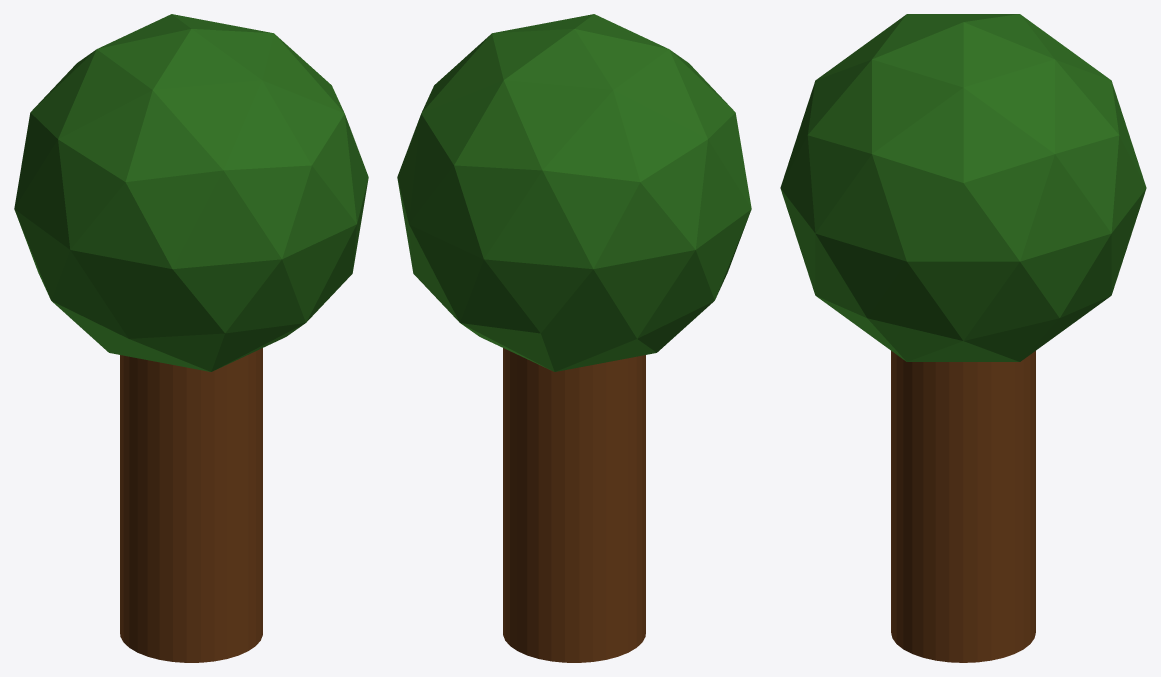
The model's file is Tree New.fbx.
The picture shows the model from 3 angles, left to right: view 1: azimuth 30°, elevation 25°; view 2: azimuth 150°, elevation 25°; view 3: azimuth 270°, elevation 25°; orthographic projection.
Parts seen in each view (by area): view 1: Cylinder; view 2: Cylinder; view 3: Cylinder.
Part boxes in pixels (x1=…): Cylinder: x1=14, y1=14, x2=368, y2=662; Cylinder: x1=397, y1=14, x2=751, y2=662; Cylinder: x1=780, y1=14, x2=1146, y2=662.
Bounding box in the file's own units: 480 × 929 × 505.
